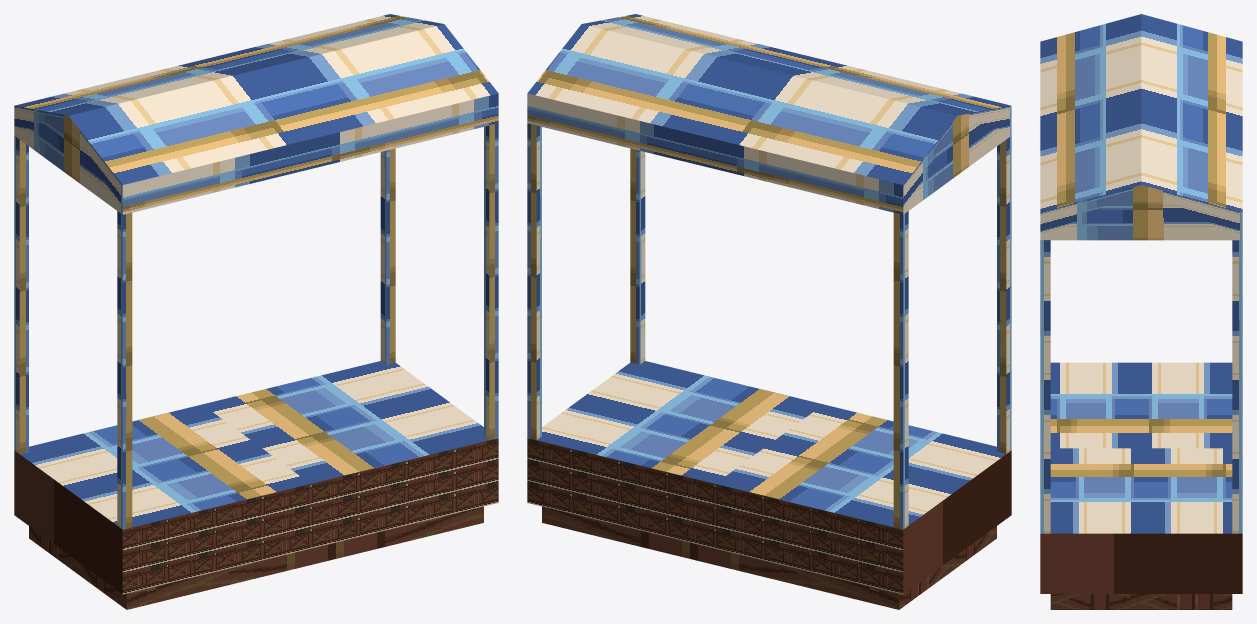
The model's file is 3641kg_case_08.gltf.
3 renders of one model, left to right at view 1: azimuth 30°, elevation 25°; view 2: azimuth 150°, elevation 25°; view 3: azimuth 270°, elevation 25°, orthographic. The views are drawn at different scales.
Visible parts, largest first — view 1: 3641kg_case_08; view 2: 3641kg_case_08; view 3: 3641kg_case_08.
Boxes of the visible parts, x1=… form: 3641kg_case_08: x1=14, y1=14, x2=498, y2=609; 3641kg_case_08: x1=527, y1=14, x2=1011, y2=609; 3641kg_case_08: x1=1040, y1=14, x2=1242, y2=609.
Bounding box in the file's own units: 2 × 2.34 × 1.
Materials: 2 (2 with a texture image).
